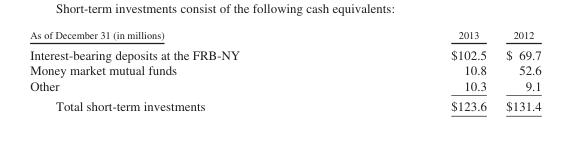table: (29, 28, 540, 113)
table column: (29, 28, 344, 113), (344, 28, 495, 113), (495, 28, 540, 113)
table column header: (29, 28, 540, 43)
table row: (29, 43, 540, 62), (29, 77, 540, 95), (29, 95, 540, 113), (29, 28, 540, 43), (29, 62, 540, 77)
